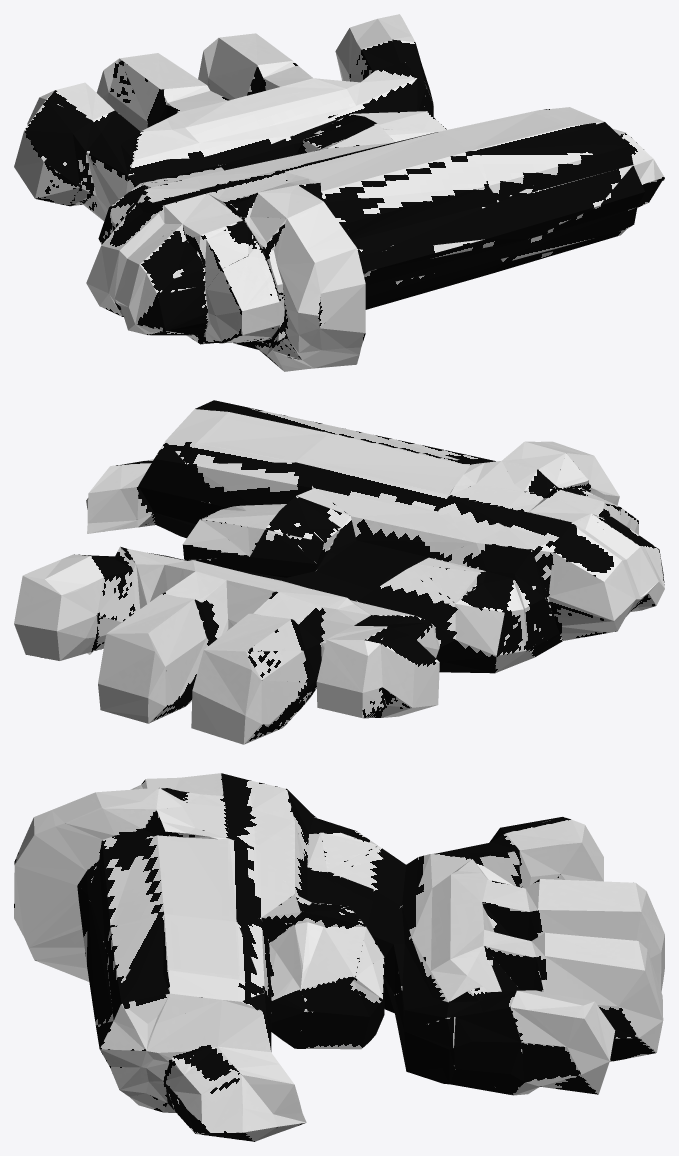
The picture shows the model from 3 angles, top to bottom: view 1: azimuth 30°, elevation 25°; view 2: azimuth 150°, elevation 25°; view 3: azimuth 270°, elevation 25°; orthographic projection. The views are drawn at different scales.
Visible parts, largest first — view 1: OBJ026; view 2: OBJ026; view 3: OBJ026.
Boxes of the visible parts, x1,y1,x2,y2 form: OBJ026: [14, 14, 664, 371]; OBJ026: [14, 400, 664, 744]; OBJ026: [14, 773, 664, 1141].
Size of the model in its own units: 0.466 by 0.1322 by 0.4356.
1 material, 1 textured.
